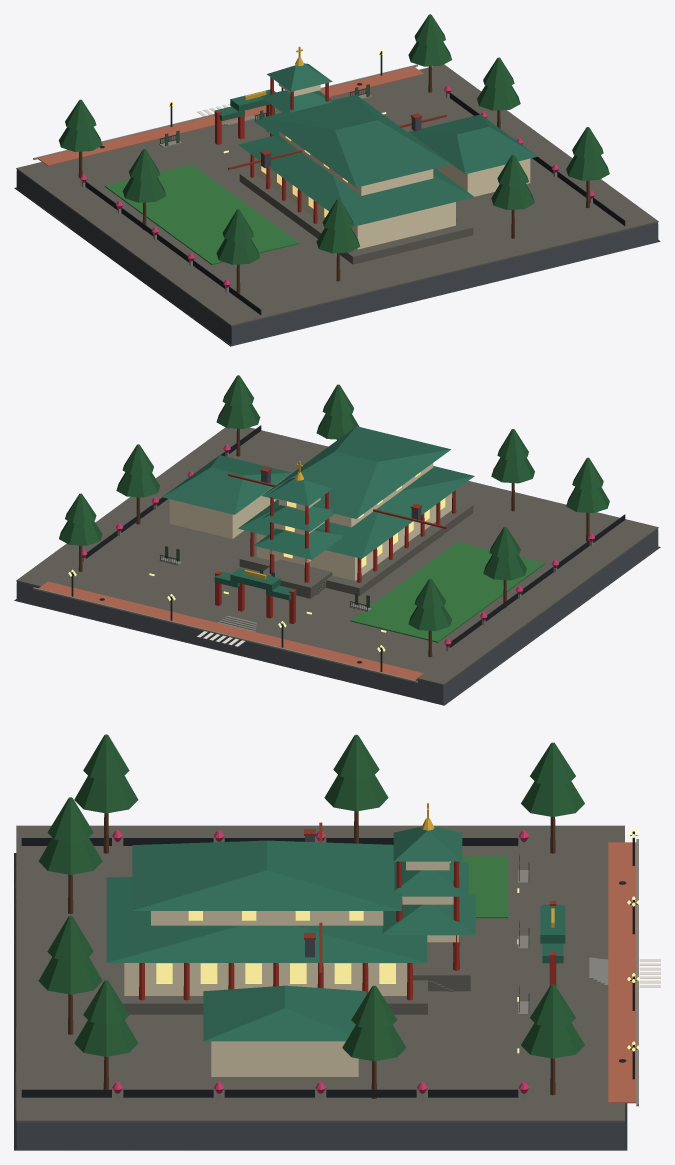
Rendered from lm_31_nha_tho_du_sinh.glb.
3 renders of one model, top to bottom at view 1: azimuth 30°, elevation 25°; view 2: azimuth 150°, elevation 25°; view 3: azimuth 270°, elevation 25°, orthographic. The views are drawn at different scales.
Visible parts, largest first — view 1: Foundation_Plinth_Trim, Foundation_Skirt, DuSinh_Pine_Forest, DuSinh_Nave_Upper_Curved_Roof, DuSinh_Hill_Lawns, DuSinh_Nave_Lower_Curved_Roof, DuSinh_Warm_Cream_Walls, DuSinh_Parish_House_Roof, DuSinh_Stone_Plinth_And_Steps, Phase2_Interlocking_Brick_Sidewalk, Phase2_WroughtIron_Balconies_Railings_Manholes, DuSinh_Vermilion_Lacquer_Columns (+5 smaller); view 2: Foundation_Plinth_Trim, Foundation_Skirt, DuSinh_Pine_Forest, DuSinh_Nave_Upper_Curved_Roof, DuSinh_Hill_Lawns, DuSinh_Warm_Cream_Walls, DuSinh_Nave_Lower_Curved_Roof, DuSinh_Stone_Plinth_And_Steps, DuSinh_Parish_House_Roof, Phase2_Interlocking_Brick_Sidewalk, DuSinh_Vermilion_Lacquer_Columns, Phase2_WroughtIron_Balconies_Railings_Manholes (+8 smaller); view 3: Foundation_Plinth_Trim, DuSinh_Pine_Forest, Foundation_Skirt, DuSinh_Nave_Upper_Curved_Roof, DuSinh_Warm_Cream_Walls, DuSinh_Nave_Lower_Curved_Roof, DuSinh_Parish_House_Roof, Phase2_Interlocking_Brick_Sidewalk, Phase2_WroughtIron_Balconies_Railings_Manholes, DuSinh_Stone_Plinth_And_Steps, DuSinh_Belfry_Tier1_Roof, DuSinh_Glowing_Sanctuary_Windows (+8 smaller).
Boxes of the visible parts, x1,y1,x2,y2 form: Foundation_Plinth_Trim: (16,64,658,326); Foundation_Skirt: (14,170,660,346); DuSinh_Pine_Forest: (58,14,609,264); DuSinh_Nave_Upper_Curved_Roof: (262,95,451,187); DuSinh_Hill_Lawns: (104,164,299,264); DuSinh_Nave_Lower_Curved_Roof: (238,136,474,227); DuSinh_Warm_Cream_Walls: (256,83,530,249); DuSinh_Parish_House_Roof: (408,114,537,174); DuSinh_Stone_Plinth_And_Steps: (239,169,473,264); Phase2_Interlocking_Brick_Sidewalk: (38,66,423,165); Phase2_WroughtIron_Balconies_Railings_Manholes: (85,51,625,314); DuSinh_Vermilion_Lacquer_Columns: (215,77,456,223); Foundation_Plinth_Trim: (16,427,658,685); Foundation_Skirt: (14,529,660,705); DuSinh_Pine_Forest: (59,375,609,630); DuSinh_Nave_Upper_Curved_Roof: (261,426,450,518); DuSinh_Hill_Lawns: (350,542,544,642); DuSinh_Warm_Cream_Walls: (169,463,452,580); DuSinh_Nave_Lower_Curved_Roof: (238,466,474,558); DuSinh_Stone_Plinth_And_Steps: (239,501,473,598); DuSinh_Parish_House_Roof: (162,455,291,514); Phase2_Interlocking_Brick_Sidewalk: (39,581,423,680); DuSinh_Vermilion_Lacquer_Columns: (215,490,456,623); Phase2_WroughtIron_Balconies_Railings_Manholes: (71,425,625,671); Foundation_Plinth_Trim: (16,825,624,1122); DuSinh_Pine_Forest: (38,734,584,1061); Foundation_Skirt: (14,853,627,1150); DuSinh_Nave_Upper_Curved_Roof: (132,840,401,910); DuSinh_Warm_Cream_Walls: (124,861,459,1076); DuSinh_Nave_Lower_Curved_Roof: (106,877,427,962); DuSinh_Parish_House_Roof: (203,985,366,1041); Phase2_Interlocking_Brick_Sidewalk: (608,842,636,1103); Phase2_WroughtIron_Balconies_Railings_Manholes: (21,831,637,1097); DuSinh_Stone_Plinth_And_Steps: (106,921,470,1014); DuSinh_Belfry_Tier1_Roof: (382,895,475,935); DuSinh_Glowing_Sanctuary_Windows: (156,861,450,983).
Size of the model in its own units: 78.78 by 24.5 by 72.44.
